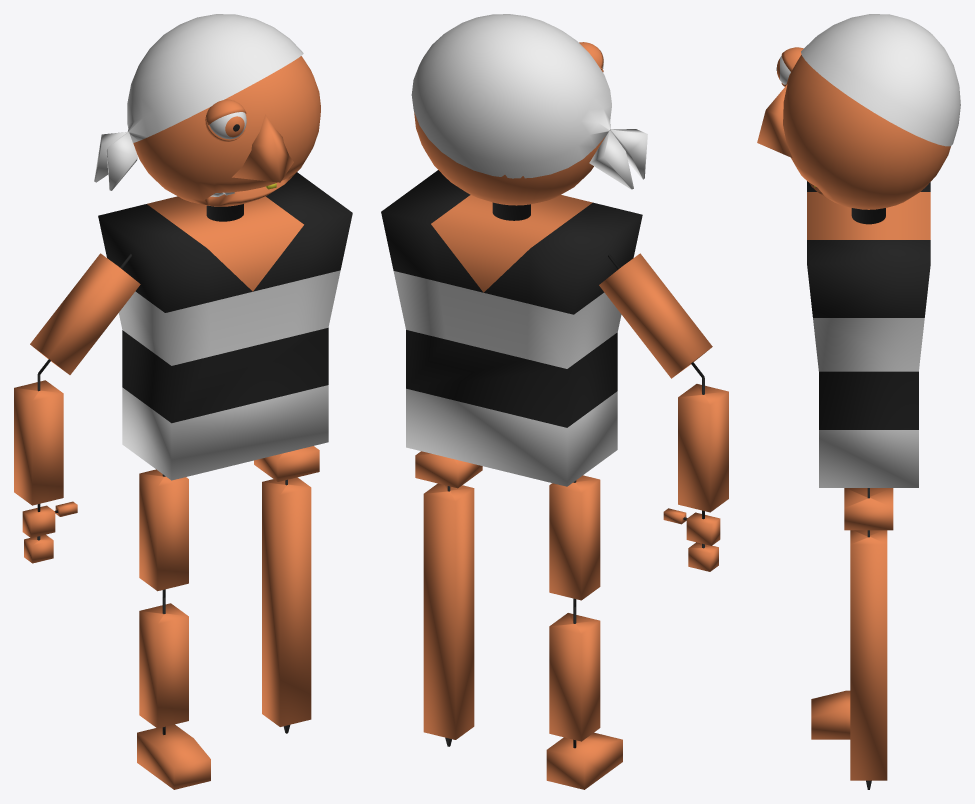
File: Pirate2.fbx
3 renders of one model, left to right at view 1: azimuth 30°, elevation 25°; view 2: azimuth 150°, elevation 25°; view 3: azimuth 270°, elevation 25°, orthographic. The views are drawn at different scales.
Visible parts, largest first — view 1: Body, Head, Sphere, LegTopR.002, HandTopR, LegBottomR, HandBottomR, LegTopR, FootR, Nose, LegTopR.001, Sphere.002 (+4 smaller); view 2: Body, Sphere, LegTopR.002, HandTopR, LegBottomR, HandBottomR, LegTopR, Head, FootR, LegTopR.001, Sphere.001, Sphere.002 (+2 smaller); view 3: Body, Head, Sphere, LegTopR.002, LegTopR.001, FootR, Nose.
Part boxes in pixels (<box>): Body: <box>98,172,352,480</box>; Head: <box>133,56,320,221</box>; Sphere: <box>127,14,303,142</box>; LegTopR.002: <box>262,477,311,733</box>; HandTopR: <box>30,253,140,374</box>; LegBottomR: <box>139,597,188,728</box>; HandBottomR: <box>14,374,63,505</box>; LegTopR: <box>139,469,188,597</box>; FootR: <box>137,724,210,789</box>; Nose: <box>232,114,293,182</box>; LegTopR.001: <box>254,446,319,481</box>; Sphere.002: <box>106,132,137,190</box>; Body: <box>381,170,642,486</box>; Sphere: <box>411,14,611,178</box>; LegTopR.002: <box>423,483,474,746</box>; HandTopR: <box>599,253,712,378</box>; LegBottomR: <box>549,607,600,741</box>; HandBottomR: <box>678,377,728,512</box>; LegTopR: <box>549,475,600,606</box>; Head: <box>414,112,605,220</box>; FootR: <box>546,732,622,789</box>; LegTopR.001: <box>415,451,482,488</box>; Sphere.001: <box>589,130,633,189</box>; Sphere.002: <box>609,129,647,179</box>; Body: <box>807,181,930,487</box>; Head: <box>783,55,950,224</box>; Sphere: <box>801,14,960,146</box>; LegTopR.002: <box>850,530,887,789</box>; LegTopR.001: <box>844,488,893,530</box>; FootR: <box>811,690,850,739</box>; Nose: <box>757,84,792,157</box>.
Bounding box in the file's own units: 356 × 823 × 206.
